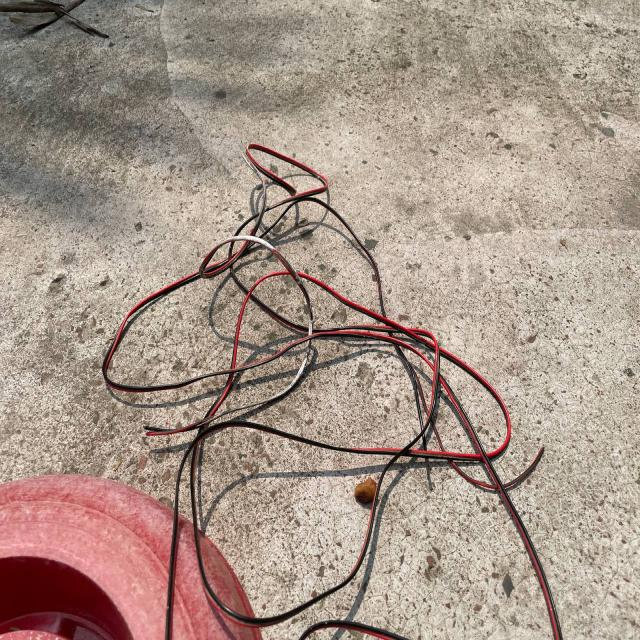Cable: (153, 127, 579, 640)
Plastics: (7, 457, 266, 640)
